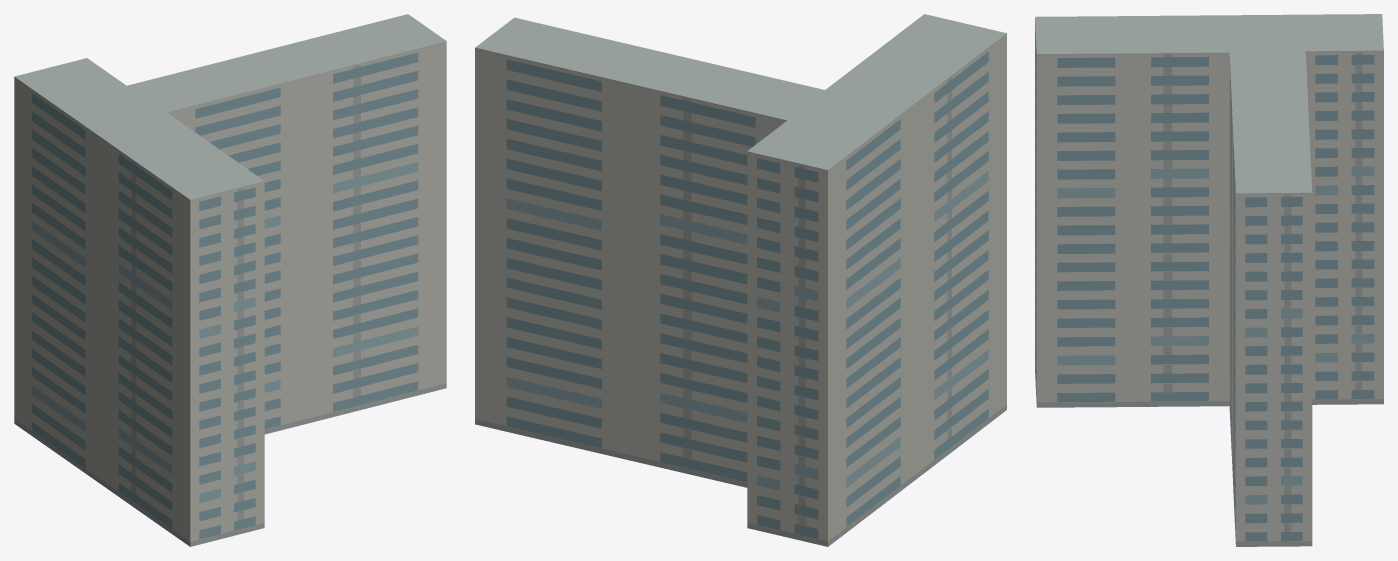
The model's file is residential-df71dcf2-efdb-43b5-bd79-a75720d8acd6.glb.
The picture shows the model from 3 angles, left to right: view 1: azimuth 30°, elevation 25°; view 2: azimuth 150°, elevation 25°; view 3: azimuth 270°, elevation 25°; orthographic projection. The views are drawn at different scales.
Parts seen in each view (by area): view 1: residential-df71dcf2-efdb-43b5-bd79-a75720d8acd6.tmp; view 2: residential-df71dcf2-efdb-43b5-bd79-a75720d8acd6.tmp; view 3: residential-df71dcf2-efdb-43b5-bd79-a75720d8acd6.tmp.
Boxes of the visible parts, box(x1,y1,x2,y2) form: residential-df71dcf2-efdb-43b5-bd79-a75720d8acd6.tmp: box(14, 14, 446, 546); residential-df71dcf2-efdb-43b5-bd79-a75720d8acd6.tmp: box(475, 14, 1006, 546); residential-df71dcf2-efdb-43b5-bd79-a75720d8acd6.tmp: box(1035, 14, 1383, 546).
Bounding box in the file's own units: 55.47 × 51 × 45.61.
